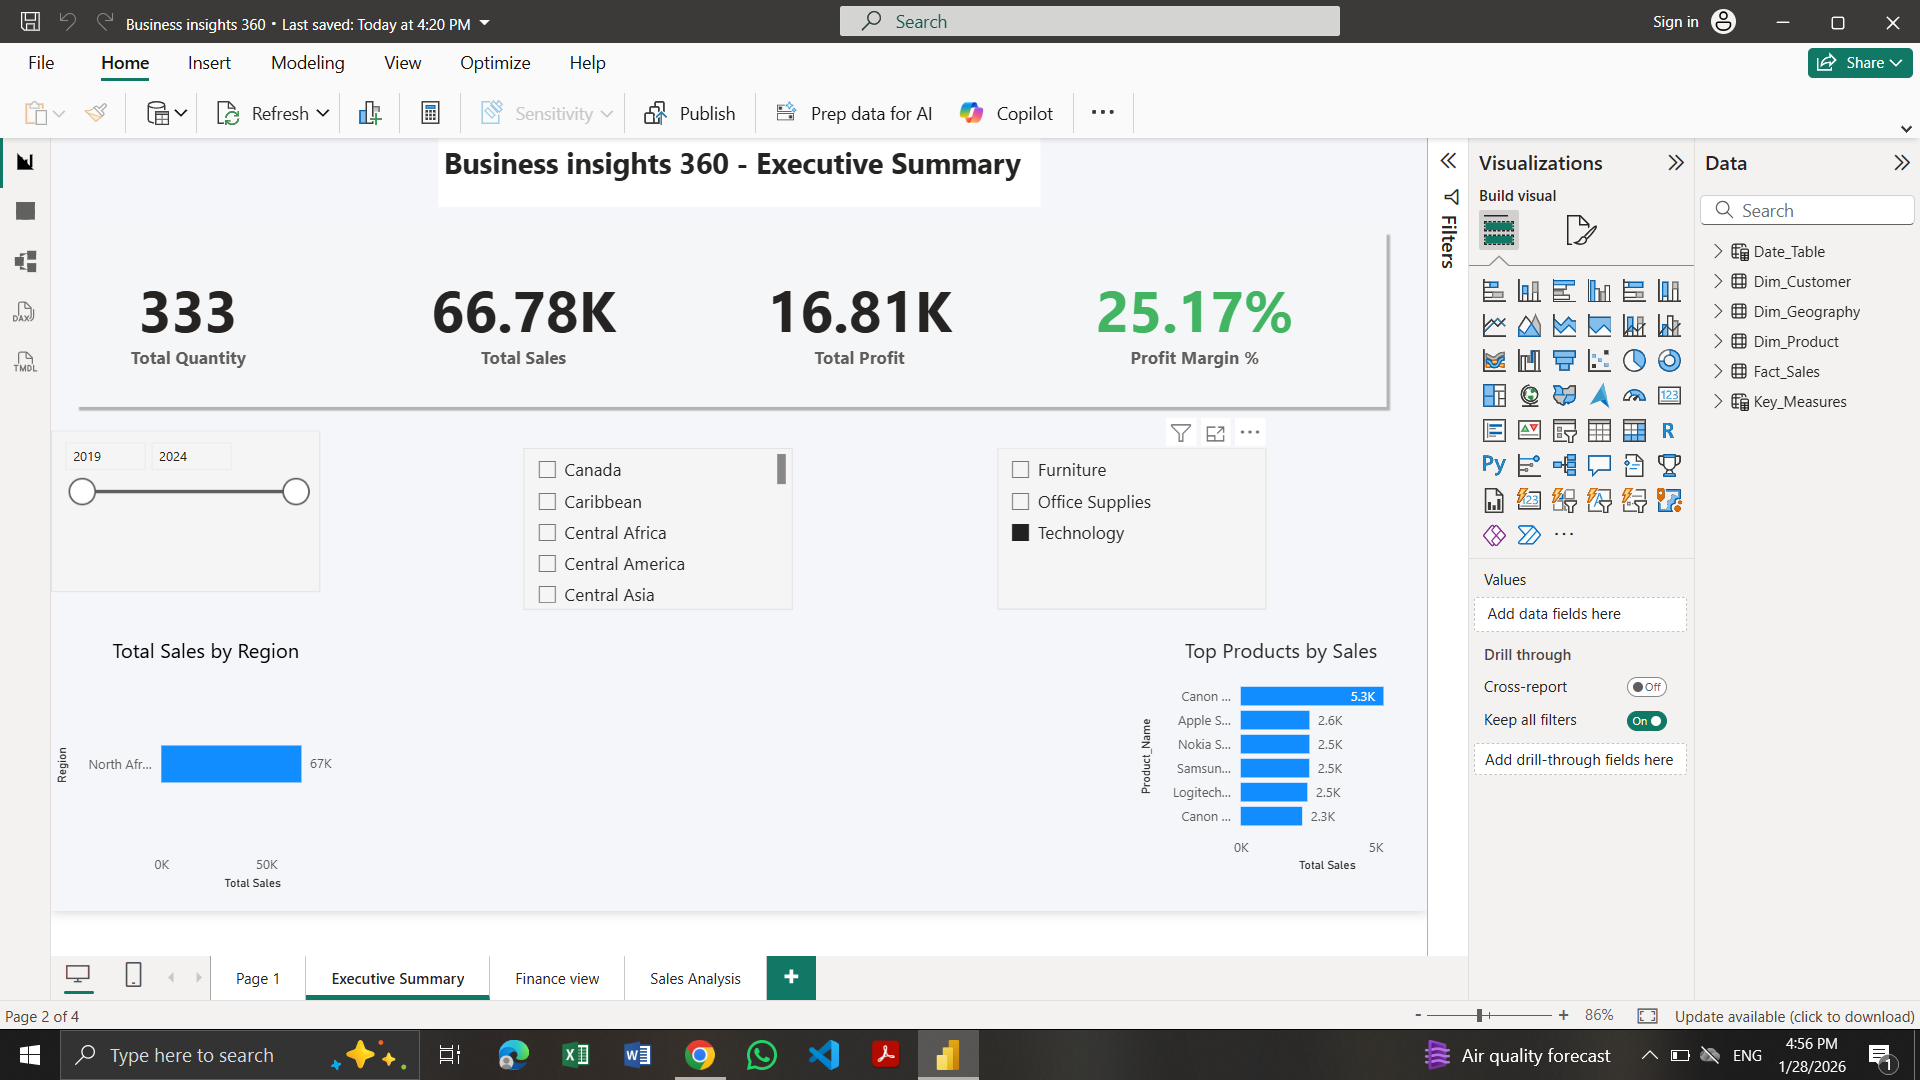

The page's visual inventory and layout, read from the dashboard file:
{"tool":"powerbi","page":{"name":"Executive Summary","canvas":[1280,720],"ordinal":1},"visuals":[{"type":"shape","box":[16,80,1232,176],"z":0},{"type":"card","fields":{"Values":["Key_Measures.Total Profit"]},"box":[624,96,256,144],"z":1000},{"type":"card","fields":{"Values":["Key_Measures.Total Quantity"]},"box":[0,96,256,144],"z":2000},{"type":"card","fields":{"Values":["Key_Measures.Total Sales"]},"box":[320,96,240,144],"z":3000},{"type":"card","fields":{"Values":["Key_Measures.Profit Margin %"]},"box":[944,96,240,144],"z":4000},{"type":"clusteredBarChart","fields":{"Category":["Dim_Geography.Region"],"Y":["Key_Measures.Total Sales"]},"box":[0,464,288,240],"z":5000},{"type":"clusteredBarChart","title":"Top Products by Sales","fields":{"Category":["Dim_Product.Product_Name"],"Y":["Key_Measures.Total Sales"]},"box":[1008,464,272,224],"z":6000},{"type":"slicer","fields":{"Values":["Date_Table.Year"]},"box":[0,272.1,250,150],"z":7000},{"type":"slicer","fields":{"Values":["Dim_Geography.Region"]},"box":[440,288,250,150],"z":8000},{"type":"slicer","fields":{"Values":["Dim_Product.Category"]},"box":[880,288,250,150],"z":9000},{"type":"textbox","box":[360,0,560,64],"z":10000}]}

Visuals, with their boxes on the page's 1280x720 design canvas (x1, y1, x2, y2). These are canvas units, not pixel positions in the 1920x1080 screenshot, which may show the page scaled, cropped or inside an application window:
shape: 16/80/1248/256
card - Key_Measures.Total Profit: 624/96/880/240
card - Key_Measures.Total Quantity: 0/96/256/240
card - Key_Measures.Total Sales: 320/96/560/240
card - Key_Measures.Profit Margin %: 944/96/1184/240
clusteredBarChart - Dim_Geography.Region x Key_Measures.Total Sales: 0/464/288/704
"Top Products by Sales" clusteredBarChart: 1008/464/1280/688
slicer - Date_Table.Year: 0/272/250/422
slicer - Dim_Geography.Region: 440/288/690/438
slicer - Dim_Product.Category: 880/288/1130/438
textbox: 360/0/920/64
